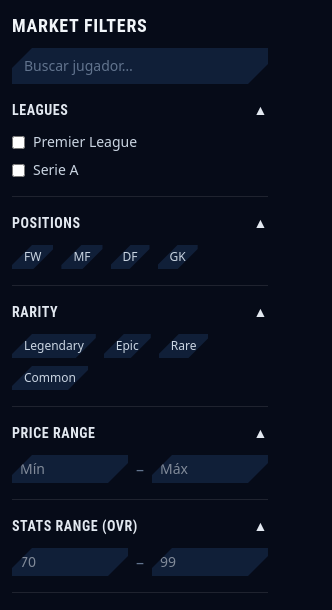
MarketFilters › cada sección se puede colapsar y volver a abrir
Step 1. Click the button "Leagues ▲" → (140, 110), box left=12, top=100, right=268, bottom=120
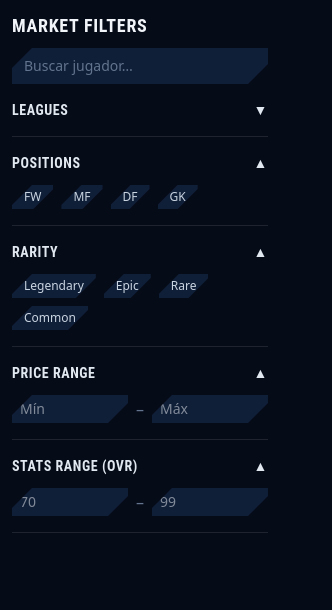
Expected: the button "Leagues ▼" is collapsed
Expected: the text "Premier League" is gone
Step 2. Click the button "Leagues ▼" → (140, 110), box left=12, top=100, right=268, bottom=120
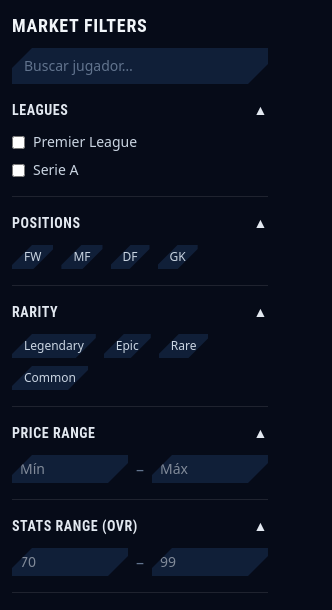
Expected: the text "Premier League" is shown, left=12, top=132, right=137, bottom=151
